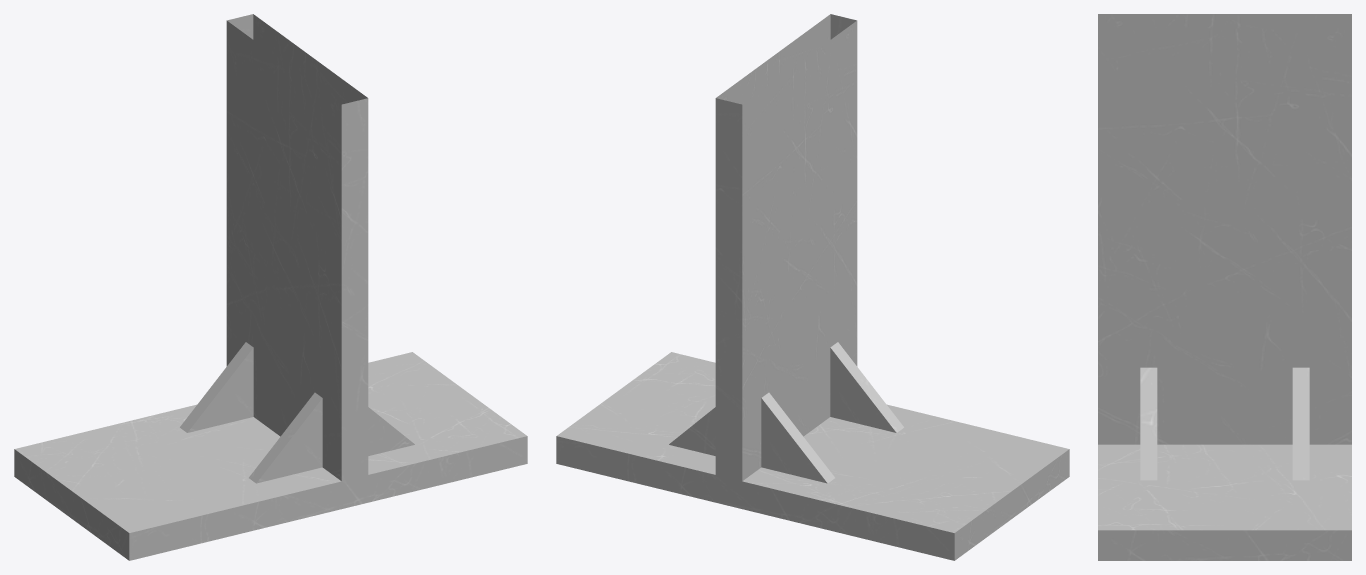
File: TightenerStation_Cube09.glb
3 renders of one model, left to right at view 1: azimuth 30°, elevation 25°; view 2: azimuth 150°, elevation 25°; view 3: azimuth 270°, elevation 25°, orthographic. The views are drawn at different scales.
Visible parts, largest first — view 1: color-2.003; view 2: color-2.003; view 3: color-2.003.
Part boxes in pixels (bbox=[...]): color-2.003: bbox=[14, 14, 527, 560]; color-2.003: bbox=[556, 14, 1069, 560]; color-2.003: bbox=[1098, 14, 1351, 560].
Size of the model in its own units: 0.3 by 0.2914 by 0.15.
Materials: 1 (1 with a texture image).
